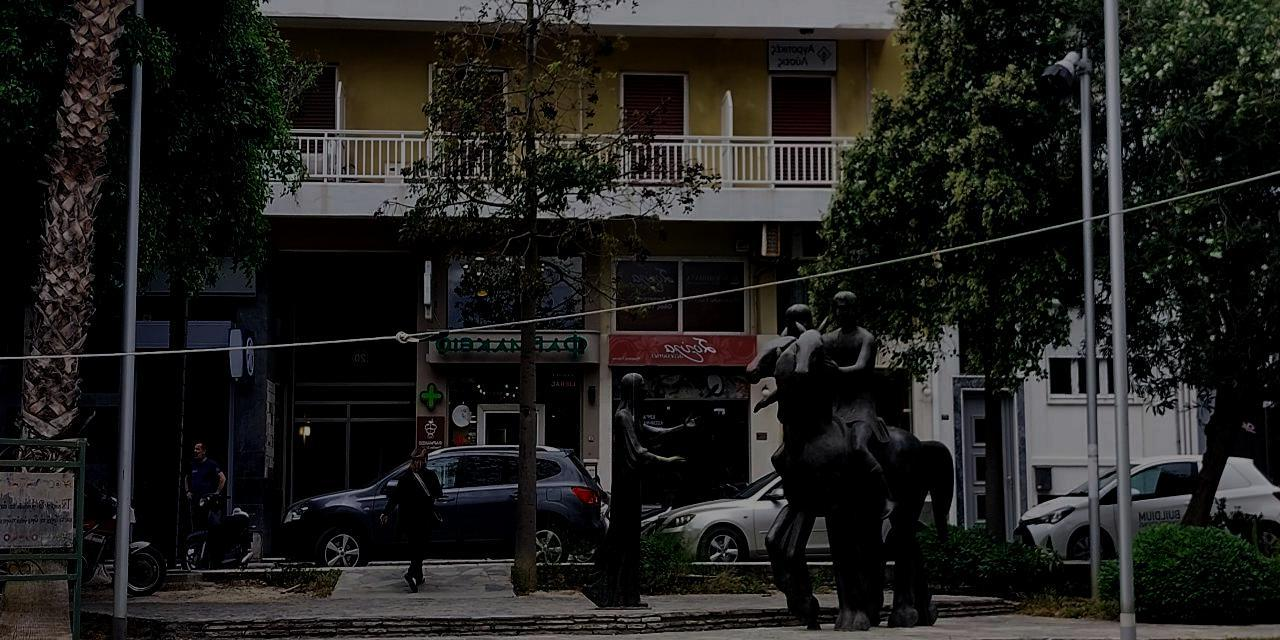Aretousa: (582, 291, 956, 632)
